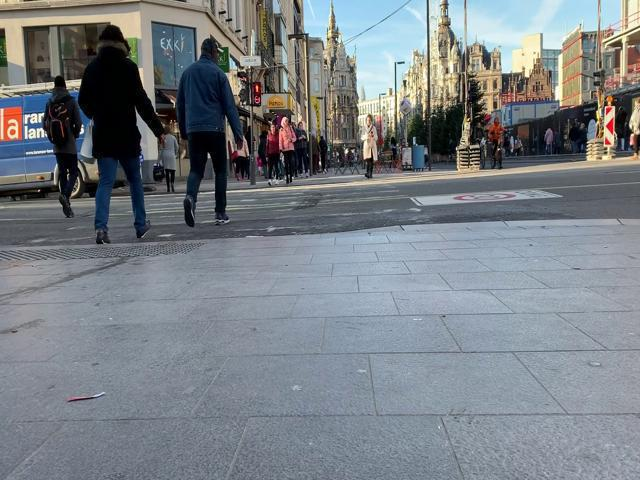shoe: (183, 196, 195, 227), (136, 221, 151, 238), (96, 229, 110, 243), (216, 213, 231, 225)
